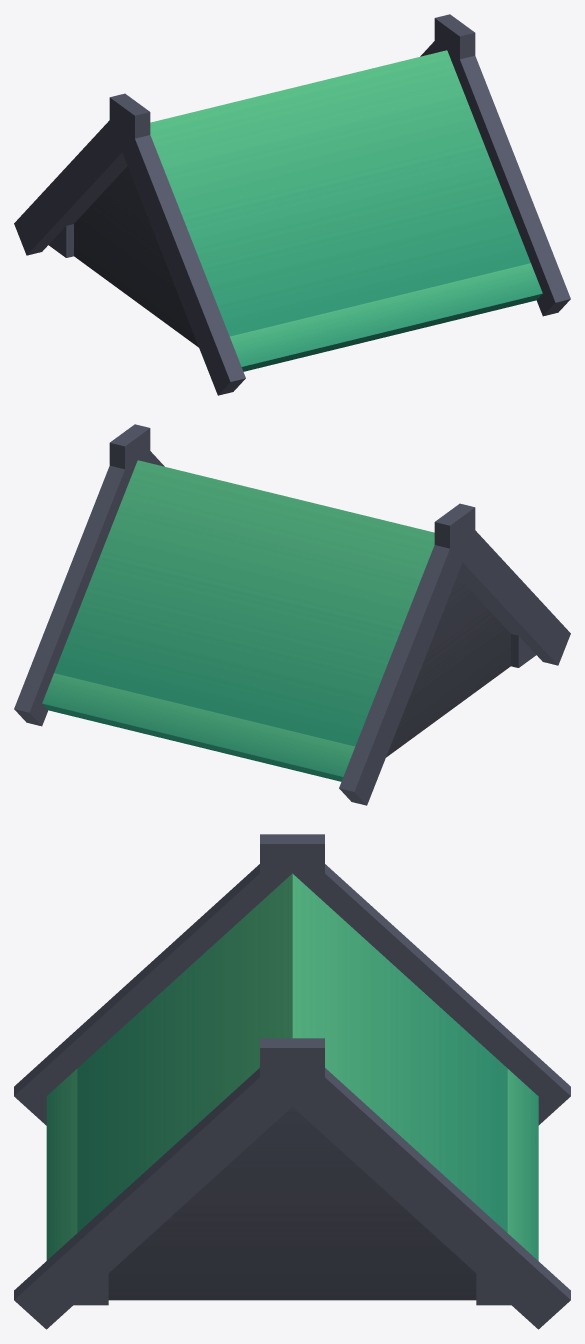
The model's file is roof-gable-detail.glb.
3 renders of one model, top to bottom at view 1: azimuth 30°, elevation 25°; view 2: azimuth 150°, elevation 25°; view 3: azimuth 270°, elevation 25°, orthographic. The views are drawn at different scales.
Visible parts, largest first — view 1: roof-gable-detail; view 2: roof-gable-detail; view 3: roof-gable-detail.
Part boxes in pixels (x1,y1,x2,y2): roof-gable-detail: (14, 14, 570, 395); roof-gable-detail: (14, 424, 570, 805); roof-gable-detail: (14, 834, 570, 1329).
Size of the model in its own units: 1.1 by 0.6768 by 1.21.
Materials: 1 (1 with a texture image).
